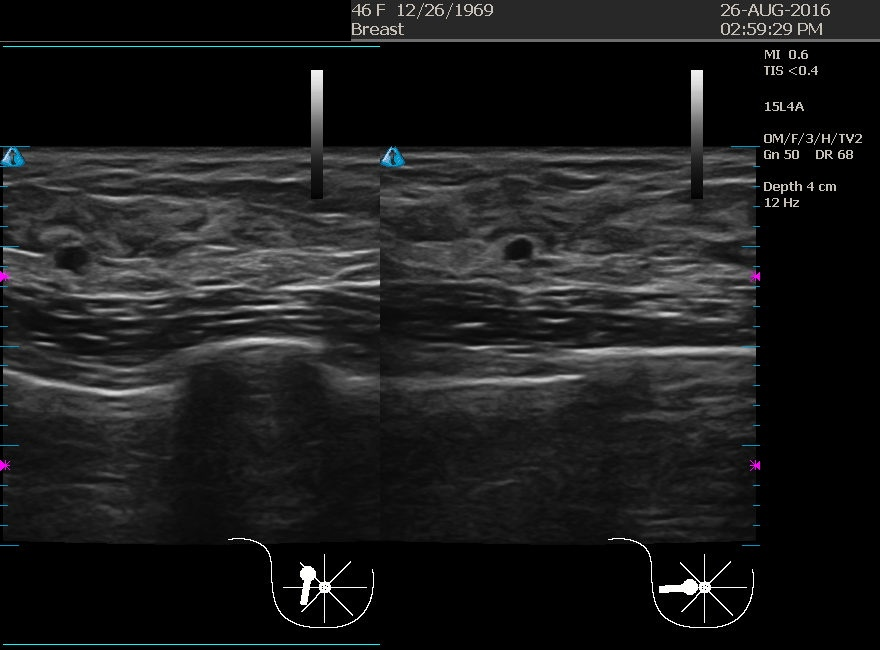BIRADS_2: (35, 158, 235, 358), (389, 173, 589, 373)
